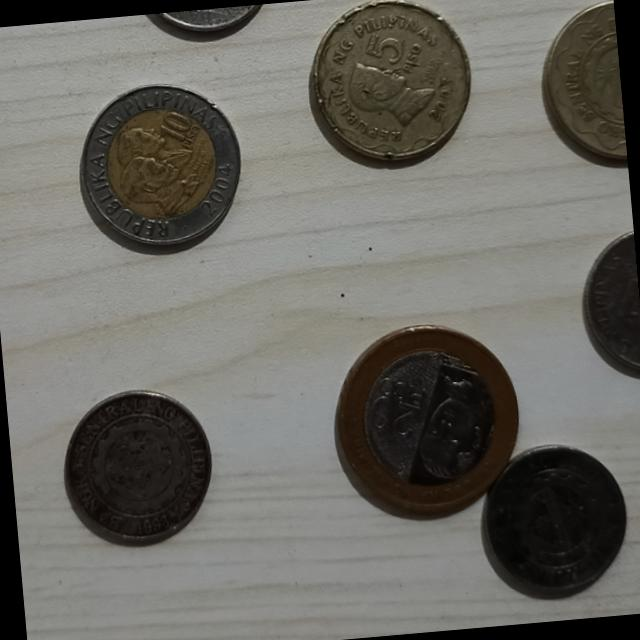10_peso: (80, 84, 239, 244)
1_peso: (65, 390, 210, 545), (484, 445, 625, 596)
20_peso: (336, 326, 518, 513)
5_peso: (310, 0, 469, 158), (545, 1, 626, 157)
